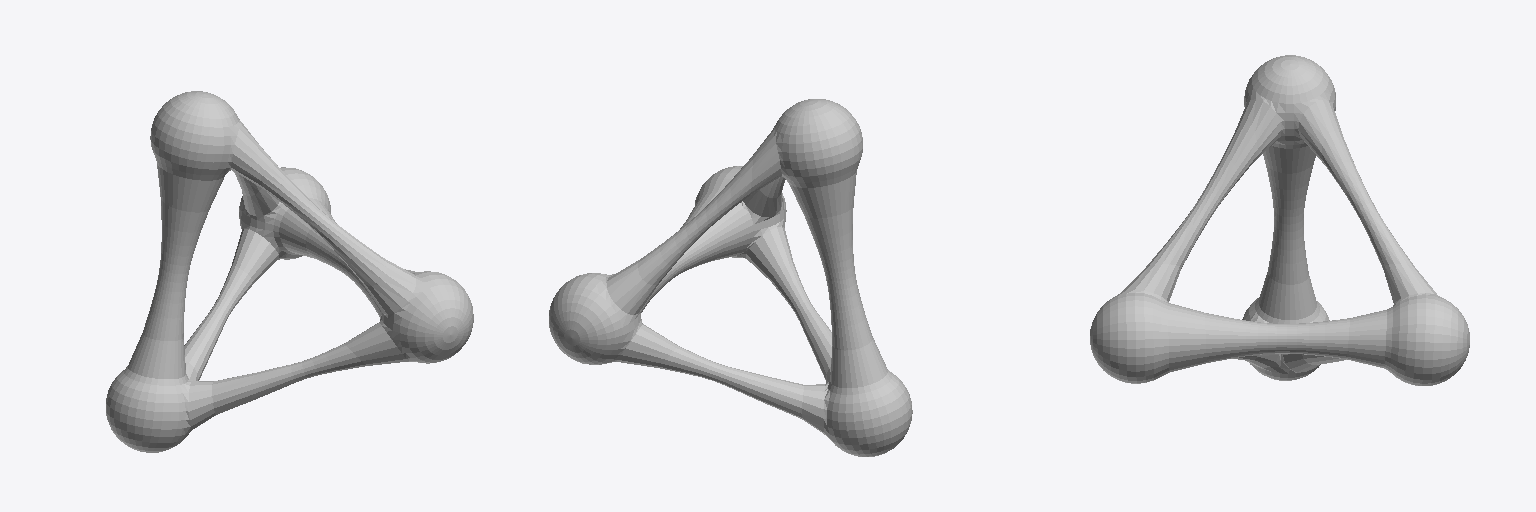
Rendered from tripod.obj.
3 renders of one model, left to right at view 1: azimuth 30°, elevation 25°; view 2: azimuth 150°, elevation 25°; view 3: azimuth 270°, elevation 25°, orthographic.
Visible parts, largest first — view 1: Sphere.001; view 2: Sphere.001; view 3: Sphere.001.
Part boxes in pixels (x1,y1,x2,y2): Sphere.001: (106,91,473,452); Sphere.001: (549,99,912,456); Sphere.001: (1090,55,1469,385).
Size of the model in its own units: 7.04 by 8.1 by 8.21.